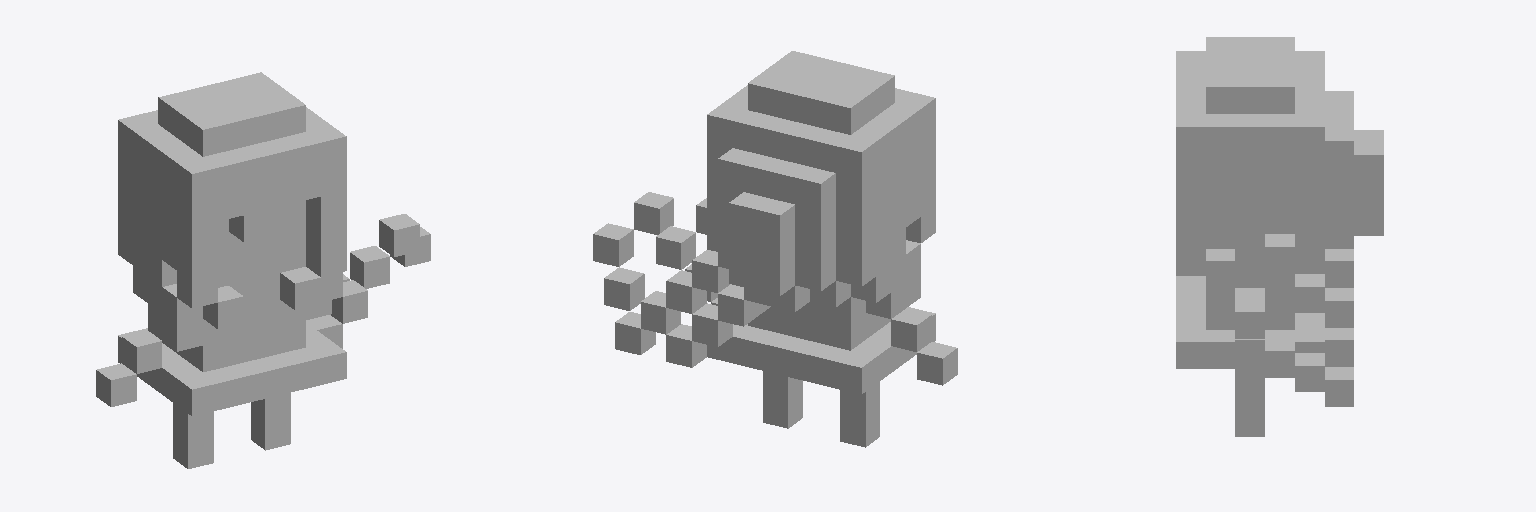
File: chr_knight.obj
The picture shows the model from 3 angles: view 1: azimuth 30°, elevation 25°; view 2: azimuth 150°, elevation 25°; view 3: azimuth 270°, elevation 25°; orthographic projection.
Parts seen in each view (by area): view 1: object 1; view 2: object 1; view 3: object 1.
Part boxes in pixels (bbox=[...]): object 1: bbox=[96, 72, 430, 468]; object 1: bbox=[593, 51, 957, 447]; object 1: bbox=[1176, 37, 1383, 436].
Bounding box in the file's own units: 1.3 × 1.3 × 0.7.